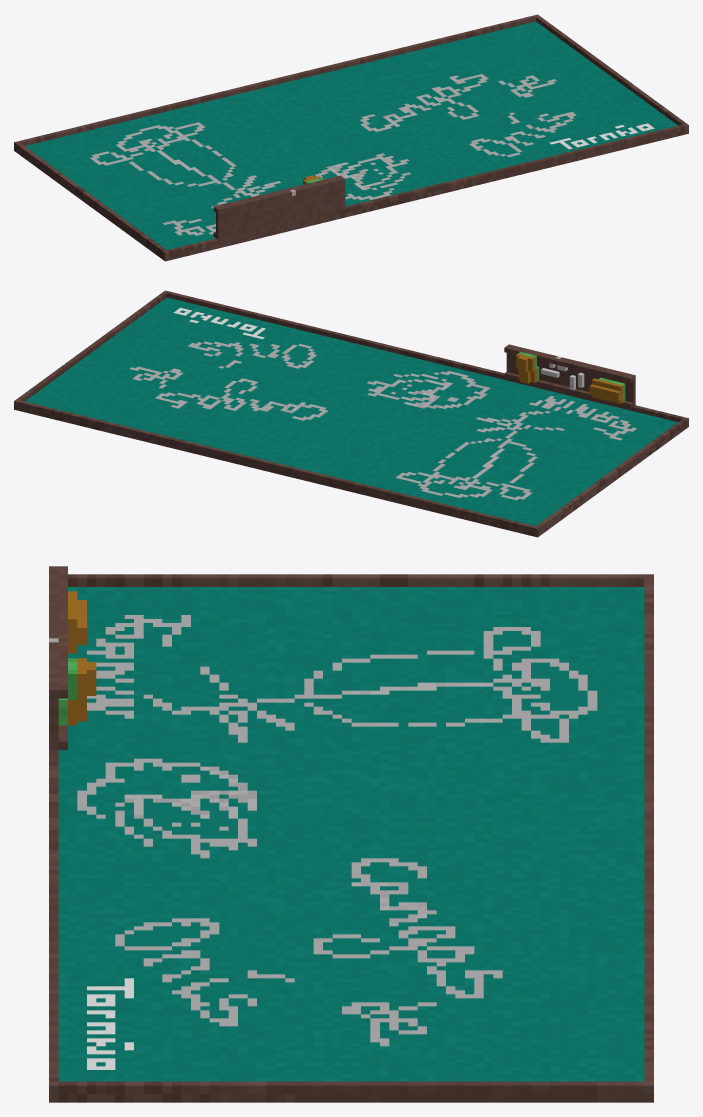
Rendered from pizarra3.obj.
3 renders of one model, top to bottom at view 1: azimuth 30°, elevation 25°; view 2: azimuth 150°, elevation 25°; view 3: azimuth 270°, elevation 25°, orthographic. The views are drawn at different scales.
Bounding box in the file's own units: 12.8 × 0.9 × 6.4.
